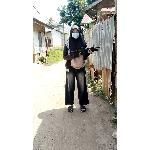Senapan: (67, 43, 105, 59)
